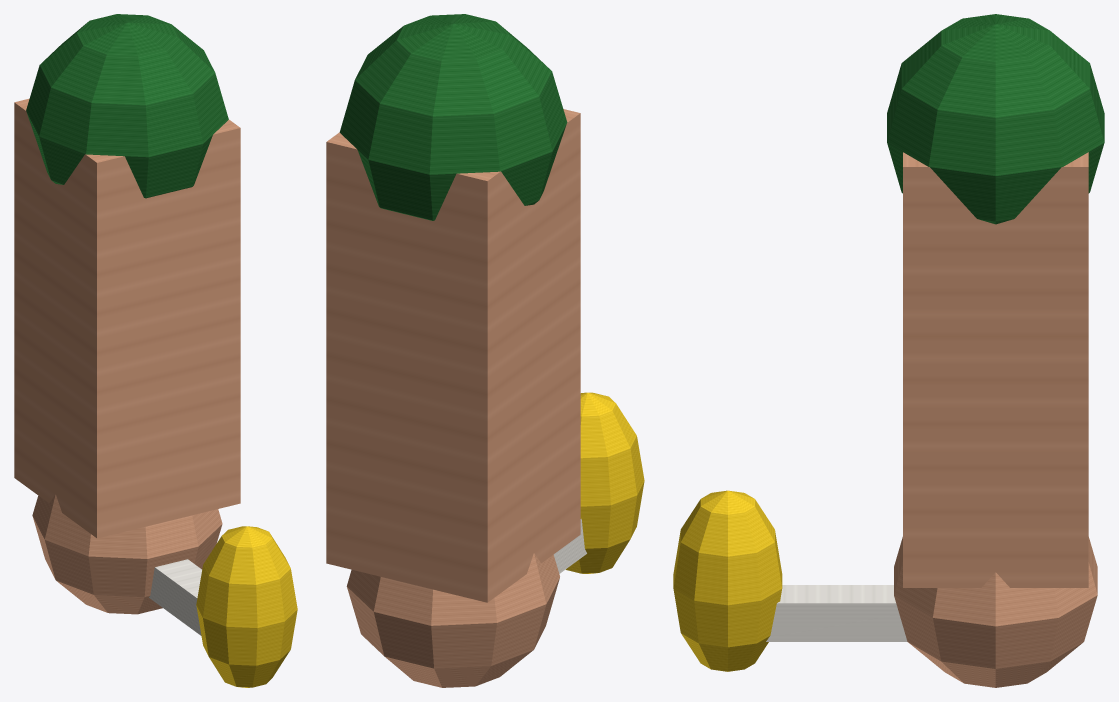
File: vela_p_mano_cerillo.obj
3 renders of one model, left to right at view 1: azimuth 30°, elevation 25°; view 2: azimuth 150°, elevation 25°; view 3: azimuth 270°, elevation 25°, orthographic. The views are drawn at different scales.
Parts seen in each view (by area): view 1: vela_p_mano_cerillo; view 2: vela_p_mano_cerillo; view 3: vela_p_mano_cerillo.
Boxes of the visible parts, x1,y1,x2,y2 form: vela_p_mano_cerillo: (14, 14, 297, 687); vela_p_mano_cerillo: (326, 14, 644, 687); vela_p_mano_cerillo: (673, 14, 1104, 687).
Size of the model in its own units: 0.064 by 0.202 by 0.1206.
Materials: 1 (1 with a texture image).
